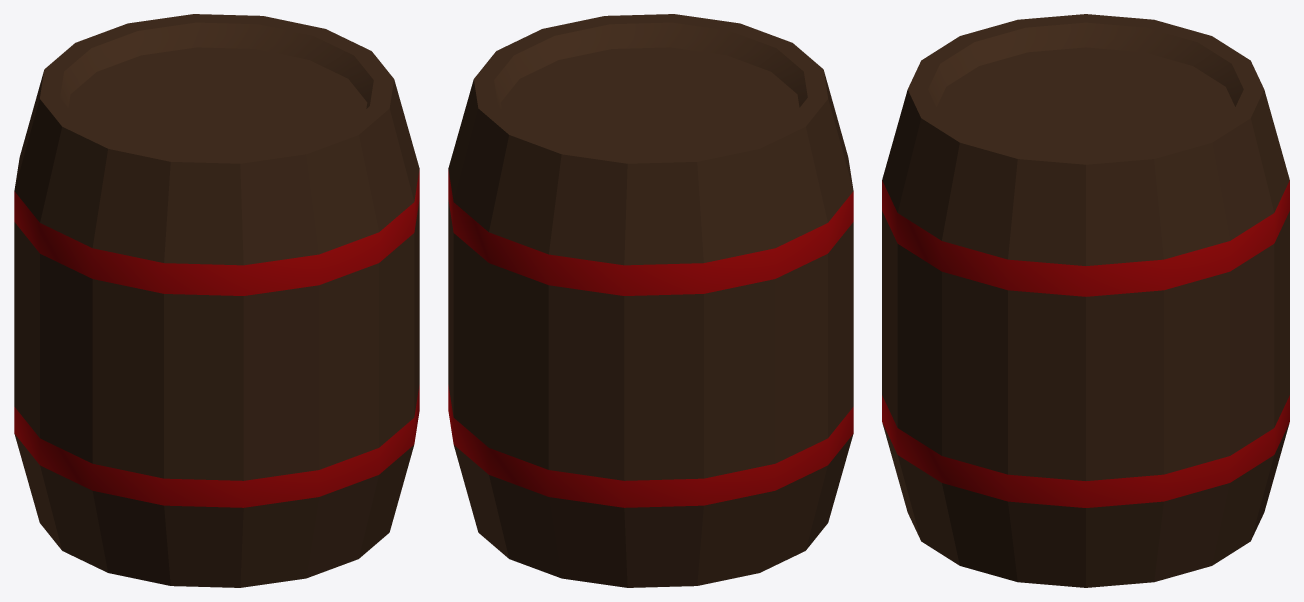
Rendered from Barril.fbx.
The picture shows the model from 3 angles, left to right: view 1: azimuth 30°, elevation 25°; view 2: azimuth 150°, elevation 25°; view 3: azimuth 270°, elevation 25°; orthographic projection.
Visible parts, largest first — view 1: Cylinder.001; view 2: Cylinder.001; view 3: Cylinder.001.
Boxes of the visible parts, x1,y1,x2,y2 form: Cylinder.001: [14, 14, 419, 587]; Cylinder.001: [448, 14, 853, 587]; Cylinder.001: [882, 14, 1289, 587].
Size of the model in its own units: 78.07 by 89.42 by 78.07.
